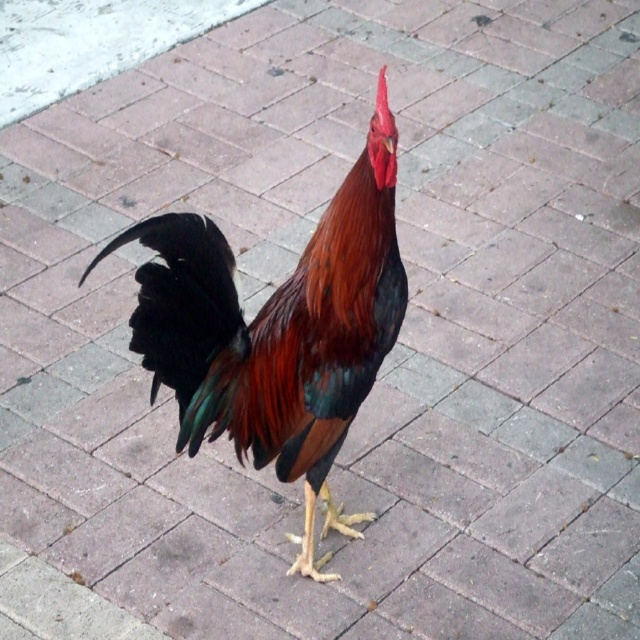Chicken: (78, 64, 408, 582)
